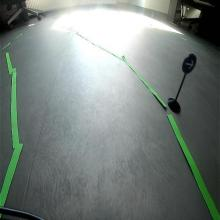right: (182, 52, 197, 75)
